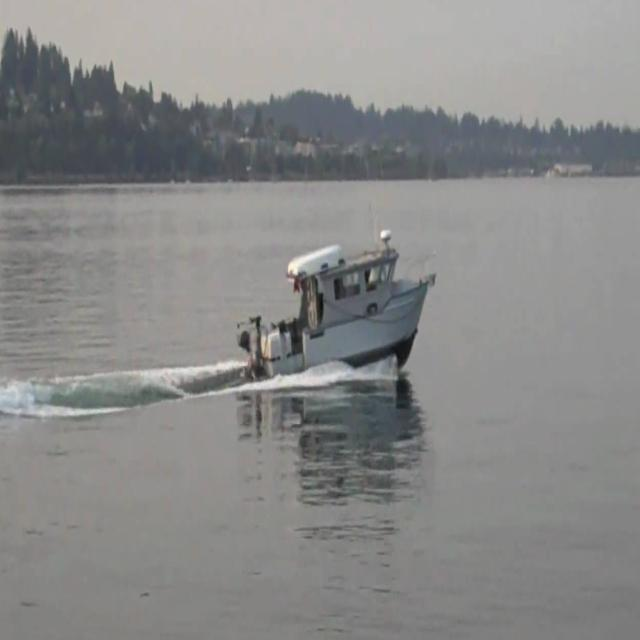houseboat: (239, 222, 433, 382)
